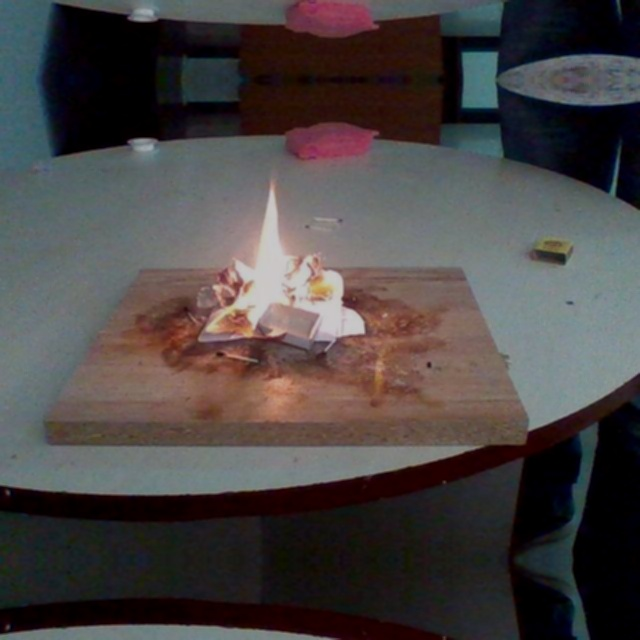fire: (203, 147, 368, 388)
